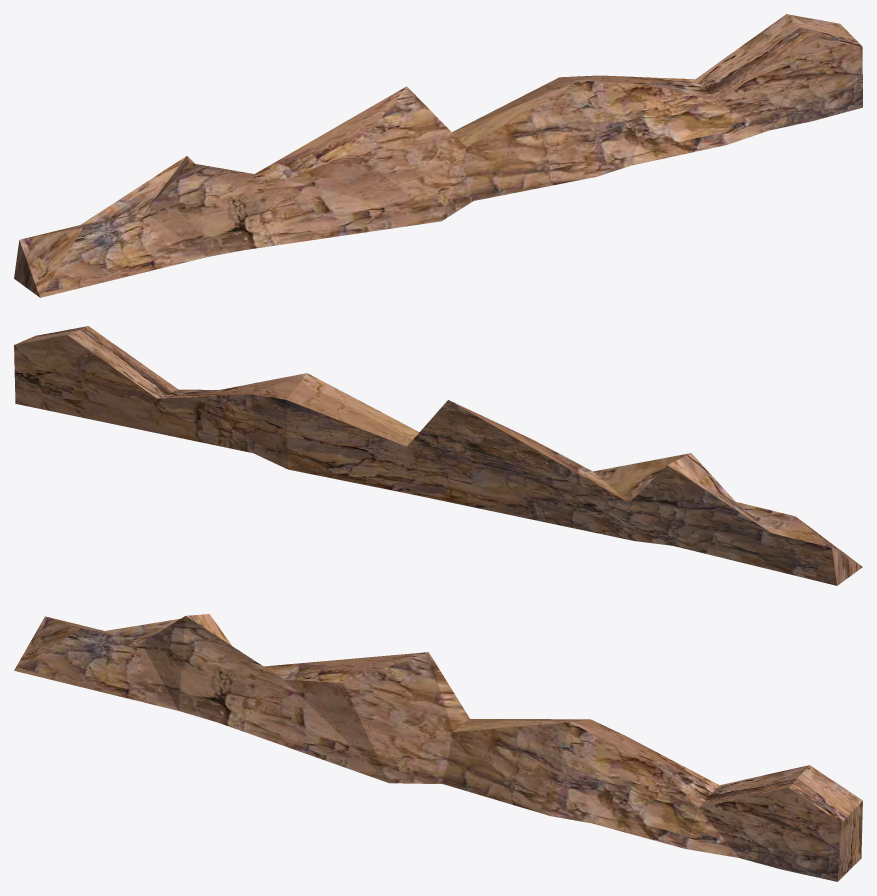
The model's file is rock.obj.
3 renders of one model, top to bottom at view 1: azimuth 30°, elevation 25°; view 2: azimuth 150°, elevation 25°; view 3: azimuth 330°, elevation 25°, orthographic.
Visible parts, largest first — view 1: Plane; view 2: Plane; view 3: Plane.
Boxes of the visible parts, <box> form: Plane: <box>14,14,862,297</box>; Plane: <box>14,326,862,585</box>; Plane: <box>14,614,862,881</box>.
Size of the model in its own units: 29.27 by 3.81 by 2.66.
Materials: 1 (1 with a texture image).
